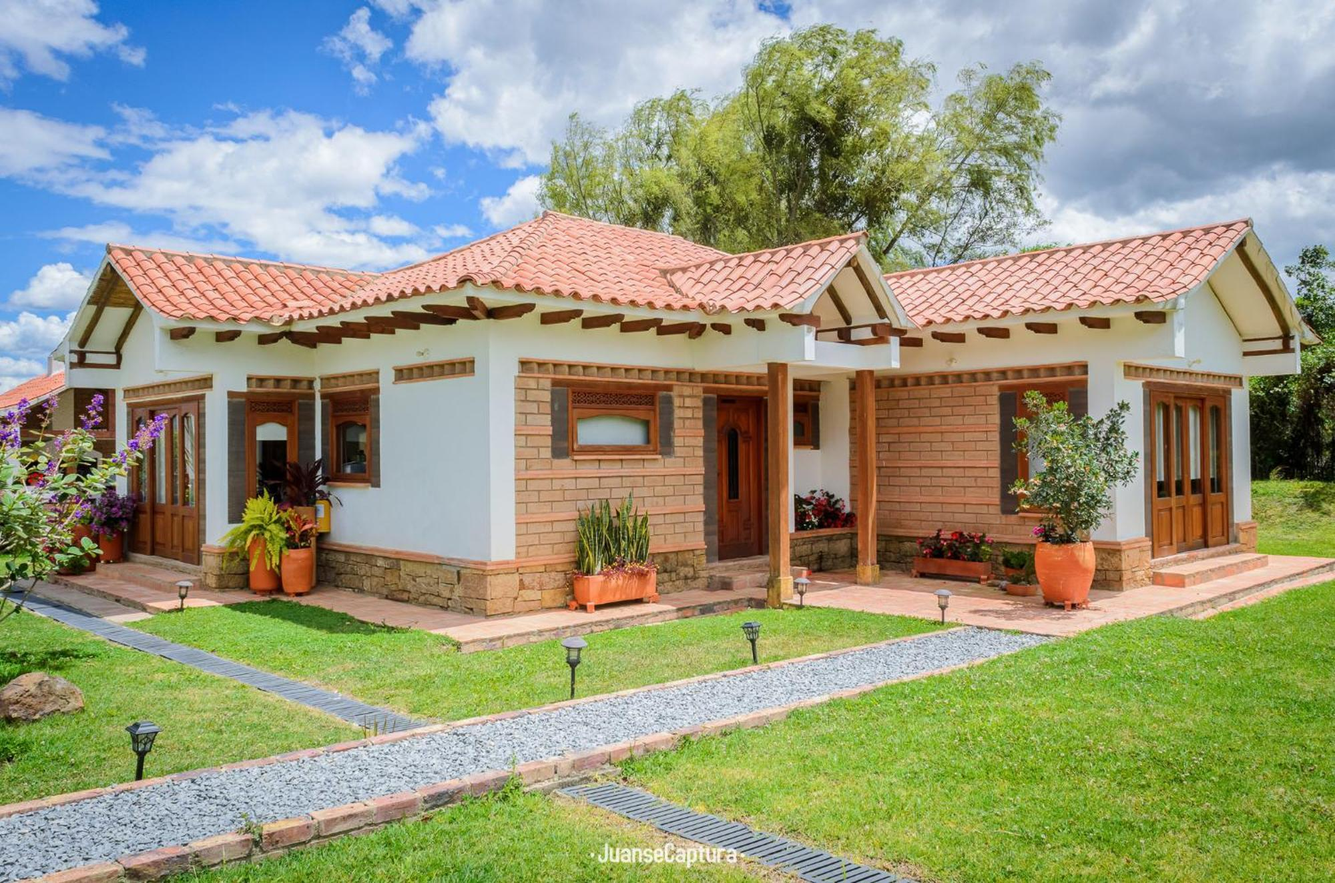House: (51, 179, 1307, 610)
